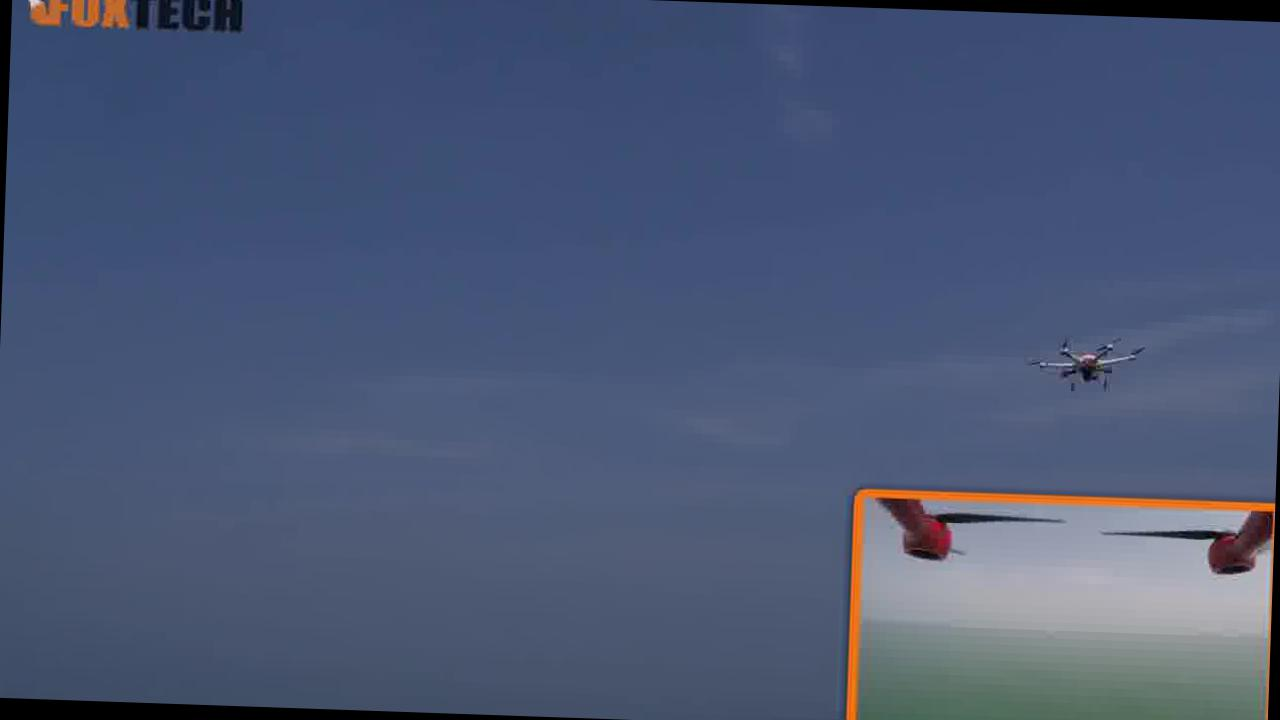drone: (1021, 322, 1158, 400)
